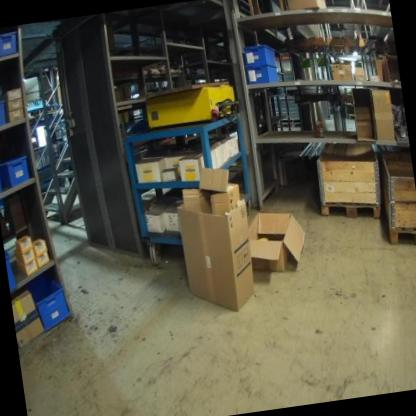pallet: (317, 191, 382, 227), (382, 200, 416, 251)
small_load_carrier: (24, 268, 77, 335), (0, 151, 36, 196), (242, 42, 280, 74), (243, 63, 282, 88), (4, 248, 22, 293), (0, 30, 22, 60), (0, 98, 7, 127), (0, 164, 5, 198)
